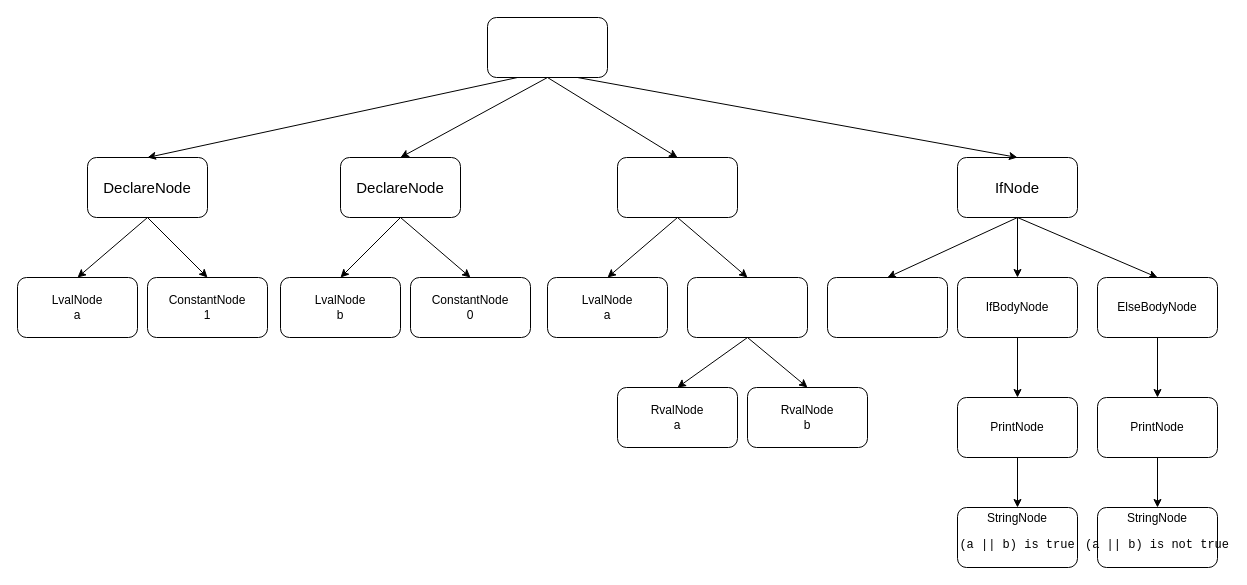
Some shapes in this 1247 by 585 pixel diagram are drawn without their labels. Each missing label, with the box of its shape:
AssignmentNode: (616, 156, 738, 218)
ConditionNode a: (826, 276, 948, 338)
MainNode: (486, 16, 608, 78)
OrNode: (686, 276, 808, 338)
